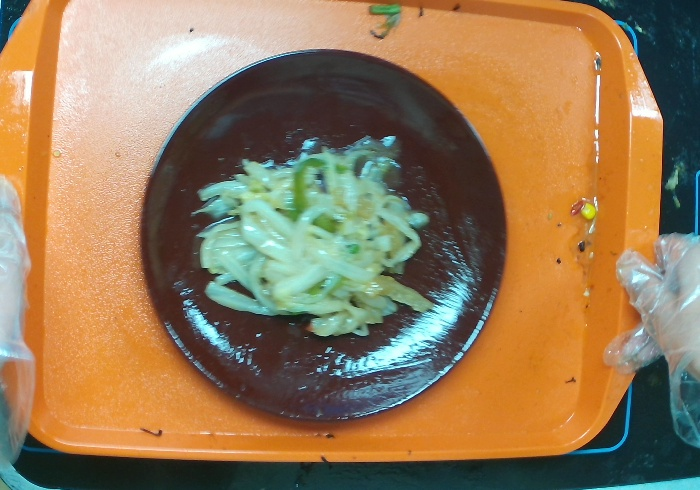HZYJPL-Ka_Fei_Yuan_Pan: (131, 44, 502, 429)
